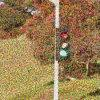traffic lights: (54, 26, 71, 63)
